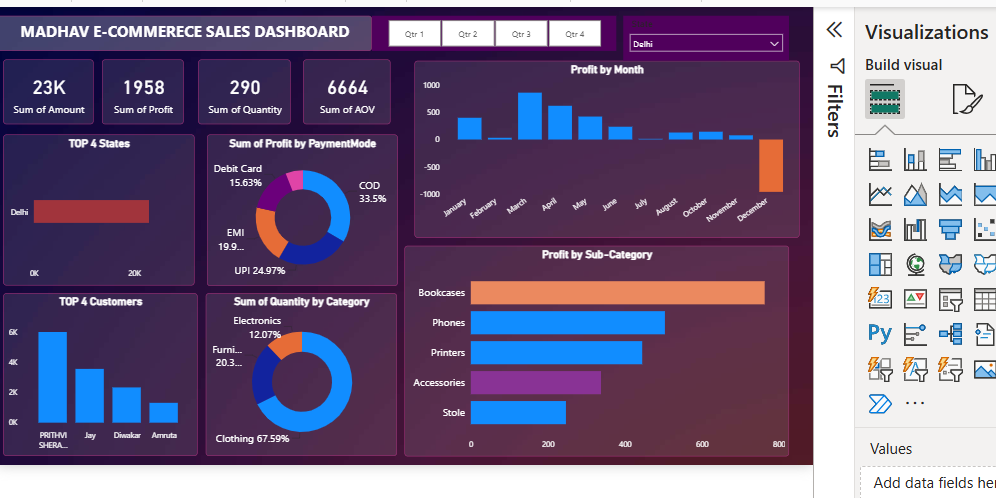

Layout of this report page (visuals, bound fields, positions):
{"tool":"powerbi","page":{"name":"Page 1","canvas":[1280,720],"ordinal":0},"visuals":[{"type":"textbox","box":[0,13.3,588.3,55],"z":0},{"type":"columnChart","title":"Profit by Month","fields":{"Y":["Sum(Details.Profit)"],"Category":["Orders.Order Date.Variation.Date Hierarchy.Month"]},"box":[654.4,83.4,603.6,277.4],"z":1000},{"type":"barChart","title":"Profit by Sub-Category","fields":{"Category":["Details.Sub-Category"],"Y":["Sum(Details.Profit)"]},"box":[640,375,603.3,330],"z":2000},{"type":"donutChart","fields":{"Category":["Details.Category"],"Y":["Sum(Details.Quantity)"]},"box":[328.3,450,300,255],"z":3000},{"type":"donutChart","fields":{"Y":["Sum(Details.Profit)"],"Category":["Details.PaymentMode"]},"box":[329.9,199.4,299.1,237.5],"z":4000},{"type":"card","fields":{"Values":["Sum(Details.Amount)"]},"box":[10,83.3,141.7,101.7],"z":5000},{"type":"card","fields":{"Values":["Sum(Details.Quantity)"]},"box":[315,83.3,145,101.7],"z":6000},{"type":"card","fields":{"Values":["Sum(Details.Profit)"]},"box":[165,83.3,128.3,101.7],"z":7000},{"type":"card","fields":{"Values":["Sum(Details.AOV)"]},"box":[480,83.3,136.7,101.7],"z":8000},{"type":"barChart","title":"TOP 4 States","fields":{"Category":["Orders.State"],"Y":["Sum(Details.Amount)"]},"box":[10,200,300,236.7],"z":9000},{"type":"columnChart","title":"TOP 4 Customers","fields":{"Category":["Orders.Customer Name"],"Y":["Sum(Details.Amount)"]},"box":[10,450,305,255],"z":10000},{"type":"slicer","fields":{"Values":["Orders.Order Date.Variation.Date Hierarchy.Quarter"]},"box":[588.3,13.3,383.3,55],"z":11000},{"type":"slicer","fields":{"Values":["Orders.State"]},"box":[983.3,13.3,260,70],"z":12000}]}

Visuals, with their boxes in screenshot pixels (x1, y1, x2, y2):
textbox: BBox(0, 6, 379, 42)
"Profit by Month" columnChart: BBox(423, 52, 820, 235)
"Profit by Sub-Category" barChart: BBox(413, 244, 810, 461)
donutChart - Details.Category x Sum(Details.Quantity): BBox(208, 293, 406, 461)
donutChart - Sum(Details.Profit) x Details.PaymentMode: BBox(209, 129, 406, 285)
card - Sum(Details.Amount): BBox(0, 52, 92, 119)
card - Sum(Details.Quantity): BBox(199, 52, 295, 119)
card - Sum(Details.Profit): BBox(101, 52, 185, 119)
card - Sum(Details.AOV): BBox(308, 52, 398, 119)
"TOP 4 States" barChart: BBox(0, 129, 196, 285)
"TOP 4 Customers" columnChart: BBox(0, 293, 199, 461)
slicer - Orders.Order Date.Variation.Date Hierarchy.Quarter: BBox(379, 6, 631, 42)
slicer - Orders.State: BBox(639, 6, 810, 52)
